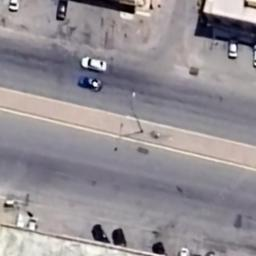sedan: (81, 56, 107, 72), (78, 76, 102, 90), (56, 0, 68, 21), (227, 39, 239, 59), (8, 0, 20, 12)
unknown: (91, 222, 111, 246), (112, 228, 127, 248), (152, 241, 166, 255), (180, 247, 190, 256), (254, 44, 256, 68)
